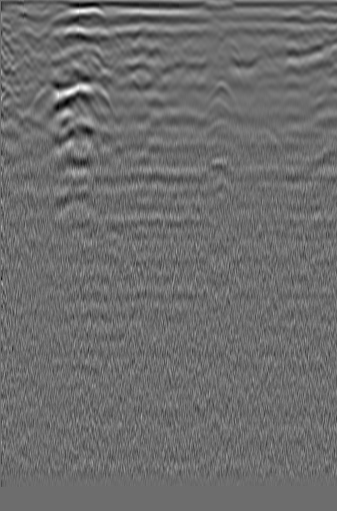가스: (196, 156, 233, 187)
상수: (10, 46, 39, 75)
오수: (276, 53, 305, 79)
우수: (142, 58, 182, 95)
